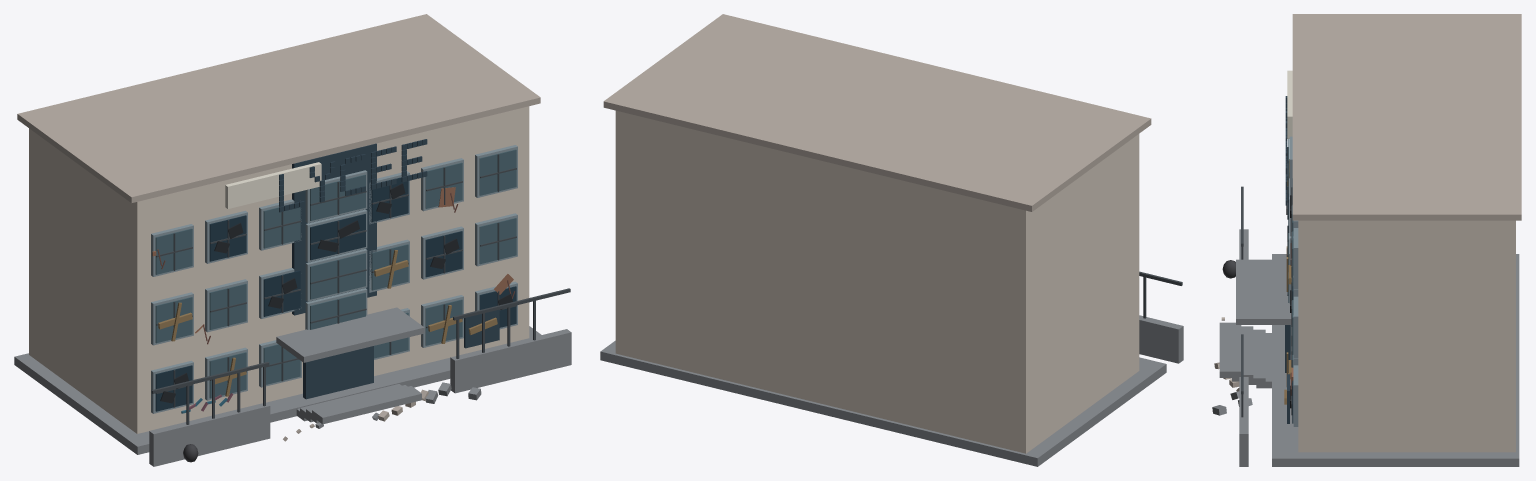
File: lycee-delabre.glb
3 renders of one model, left to right at view 1: azimuth 30°, elevation 25°; view 2: azimuth 150°, elevation 25°; view 3: azimuth 270°, elevation 25°, orthographic. The views are drawn at different scales.
Visible parts, largest first — view 1: lycee_delabre_plaster, lycee_delabre_plasterDark, lycee_delabre_concrete, lycee_delabre_windowLite, lycee_delabre_frame, lycee_delabre_navy, lycee_delabre_window, lycee_delabre_metal, lycee_delabre_bright, lycee_delabre_dark, lycee_delabre_cardboard; view 2: lycee_delabre_plaster, lycee_delabre_plasterDark, lycee_delabre_concrete; view 3: lycee_delabre_plaster, lycee_delabre_plasterDark, lycee_delabre_concrete, lycee_delabre_frame, lycee_delabre_metal, lycee_delabre_navy, lycee_delabre_windowLite, lycee_delabre_bright, lycee_delabre_cardboard.
Part boxes in pixels (x1,y1,x2,y2): lycee_delabre_plaster: (29, 106, 529, 433); lycee_delabre_plasterDark: (17, 14, 540, 441); lycee_delabre_concrete: (14, 307, 571, 466); lycee_delabre_windowLite: (155, 149, 516, 398); lycee_delabre_frame: (151, 145, 517, 413); lycee_delabre_navy: (279, 139, 499, 399); lycee_delabre_window: (155, 177, 516, 411); lycee_delabre_metal: (151, 154, 570, 424); lycee_delabre_bright: (225, 162, 321, 208); lycee_delabre_dark: (160, 183, 512, 403); lycee_delabre_cardboard: (158, 250, 497, 396); lycee_delabre_plaster: (615, 110, 1139, 453); lycee_delabre_plasterDark: (603, 14, 1151, 211); lycee_delabre_concrete: (600, 315, 1183, 466); lycee_delabre_plaster: (1298, 220, 1515, 452); lycee_delabre_plasterDark: (1214, 14, 1521, 391); lycee_delabre_concrete: (1212, 229, 1519, 466); lycee_delabre_frame: (1289, 136, 1298, 426); lycee_delabre_metal: (1241, 147, 1292, 417); lycee_delabre_navy: (1285, 96, 1290, 423); lycee_delabre_windowLite: (1288, 138, 1293, 367); lycee_delabre_bright: (1287, 70, 1292, 138); lycee_delabre_cardboard: (1284, 159, 1291, 404).
Size of the model in its own units: 14.7 by 8.45 by 9.39.
